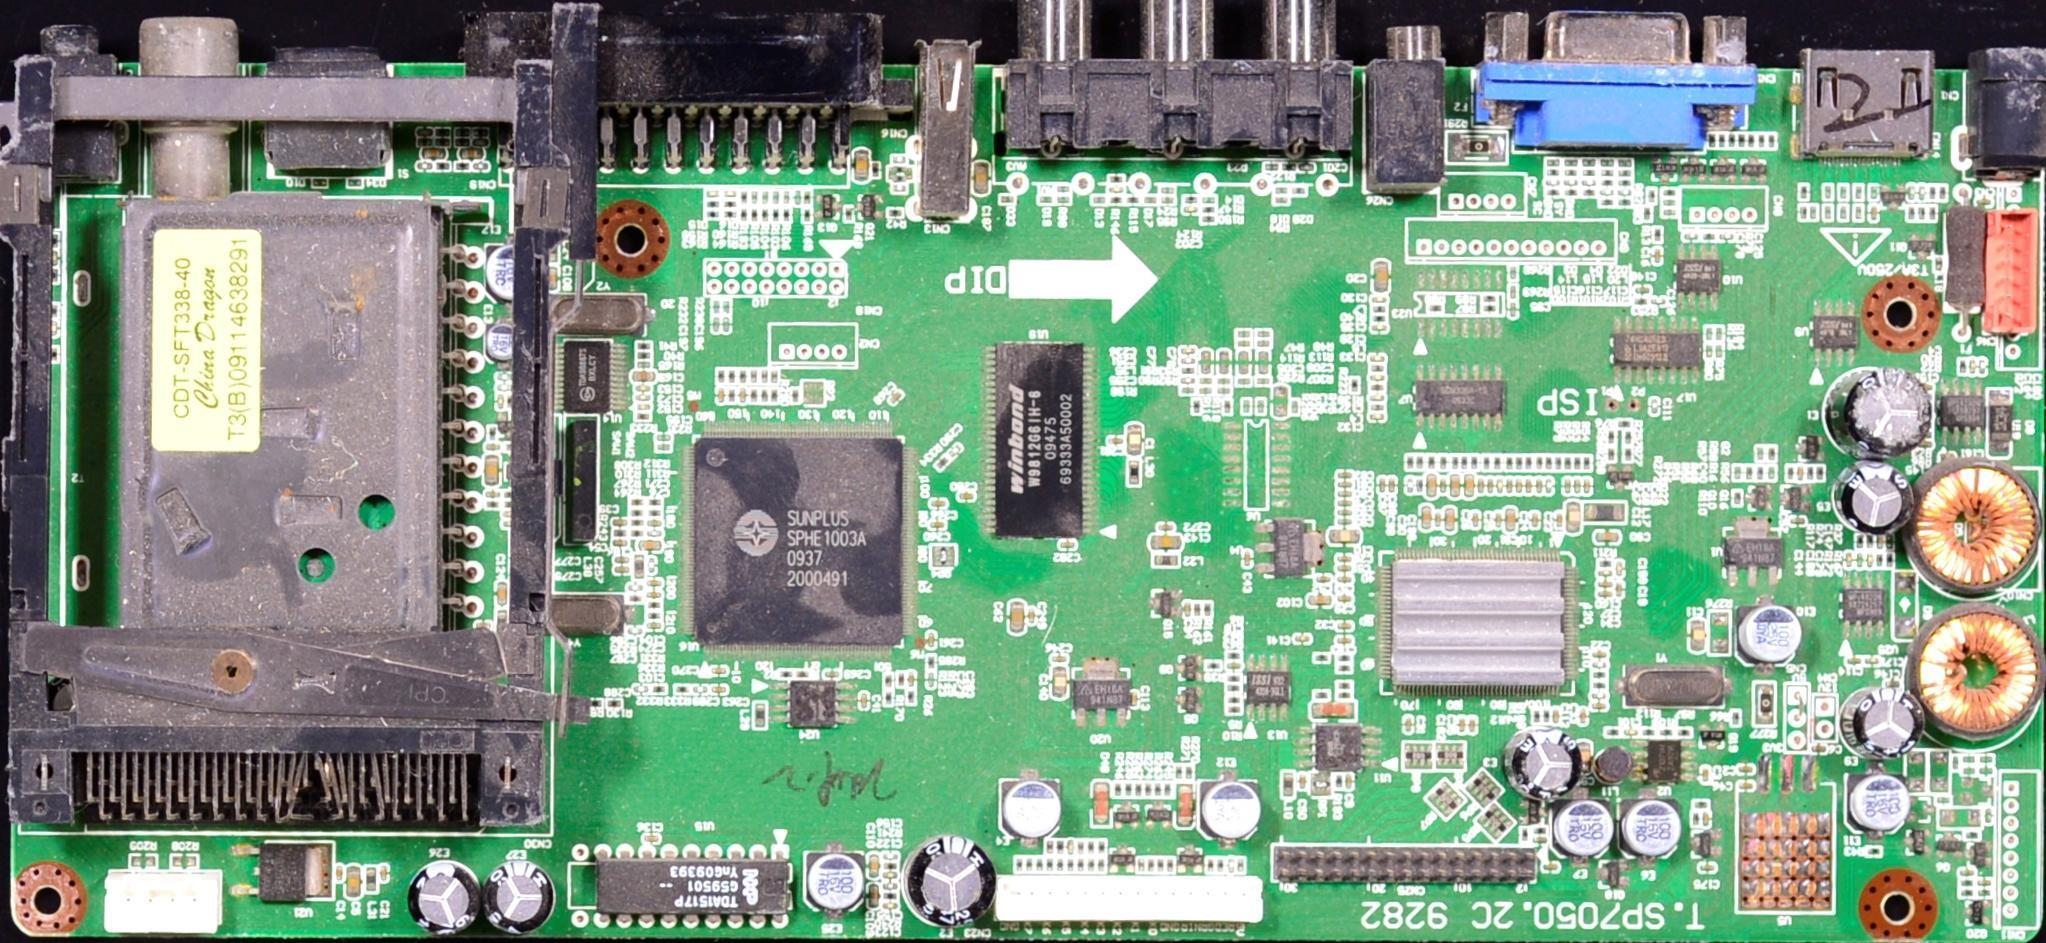Capacitor: (1150, 534, 1184, 552), (1010, 600, 1025, 636), (1371, 262, 1390, 291), (1127, 426, 1144, 456), (973, 163, 989, 194), (483, 455, 499, 487), (1690, 619, 1706, 650), (1053, 665, 1067, 698), (855, 150, 869, 181), (1577, 743, 1591, 776), (1568, 502, 1581, 532), (1330, 529, 1359, 542), (347, 867, 359, 899), (1199, 349, 1212, 374), (1257, 351, 1270, 375), (867, 884, 880, 909), (886, 389, 908, 403), (1219, 350, 1231, 375), (1308, 593, 1333, 605), (1421, 505, 1433, 530), (631, 370, 655, 382), (497, 582, 508, 608), (1506, 510, 1517, 532), (868, 855, 879, 878), (1239, 352, 1250, 375), (1595, 533, 1620, 543), (1464, 474, 1475, 496), (1444, 507, 1455, 530), (1368, 411, 1387, 423), (1590, 700, 1612, 711), (1314, 573, 1333, 583), (1129, 690, 1139, 709), (639, 541, 661, 550), (549, 267, 557, 292), (1809, 744, 1827, 754), (1697, 862, 1716, 873), (1493, 510, 1502, 529), (1335, 637, 1354, 646), (642, 834, 661, 843), (1683, 231, 1700, 241), (957, 490, 974, 501), (1060, 539, 1076, 549), (1242, 550, 1253, 568), (907, 671, 917, 688), (1370, 295, 1388, 304), (1157, 522, 1176, 531), (1293, 634, 1311, 643), (825, 669, 840, 679), (1718, 231, 1735, 240), (1369, 373, 1386, 382), (1106, 436, 1123, 445), (1796, 466, 1805, 482), (1378, 477, 1387, 494), (1337, 507, 1354, 517), (1337, 517, 1354, 525), (645, 622, 661, 631), (1590, 650, 1608, 659), (1051, 654, 1067, 662), (1344, 774, 1353, 790), (1298, 774, 1307, 791), (709, 686, 728, 694), (1027, 609, 1037, 624), (717, 388, 725, 403), (485, 490, 501, 499), (1337, 554, 1353, 563), (1865, 553, 1874, 569), (612, 566, 630, 574), (1615, 582, 1624, 597), (1596, 590, 1612, 599), (711, 667, 727, 675), (1623, 728, 1639, 737), (882, 902, 900, 910), (1372, 323, 1388, 331), (1336, 490, 1353, 498), (1336, 498, 1353, 506), (930, 499, 947, 508), (1556, 511, 1563, 528), (612, 518, 629, 528), (611, 539, 628, 546), (1845, 551, 1853, 568), (1863, 656, 1880, 664), (1847, 657, 1863, 665), (1468, 718, 1476, 734), (883, 852, 900, 860), (1876, 535, 1885, 549), (615, 554, 629, 564), (1616, 562, 1625, 577), (1337, 594, 1352, 603), (693, 685, 707, 694), (1579, 709, 1588, 724), (1458, 717, 1466, 732), (882, 882, 897, 891), (1976, 198, 1991, 206), (635, 385, 651, 393), (739, 387, 746, 403), (1651, 399, 1659, 415), (636, 403, 651, 411), (1388, 477, 1396, 493), (1434, 512, 1442, 528), (1336, 622, 1352, 630), (634, 685, 650, 692), (1404, 717, 1412, 733), (1371, 354, 1384, 362), (1336, 480, 1354, 487), (645, 592, 663, 599), (1552, 709, 1560, 723), (928, 632, 936, 647), (1739, 782, 1754, 790), (1654, 247, 1661, 263), (1634, 287, 1650, 294), (1180, 357, 1196, 364), (636, 394, 652, 400), (1532, 511, 1539, 528), (1472, 511, 1479, 528), (930, 521, 947, 527), (380, 865, 386, 882), (337, 865, 343, 882), (882, 872, 899, 879), (1181, 347, 1194, 355), (647, 519, 660, 527), (1337, 575, 1353, 582), (647, 580, 663, 587), (1184, 601, 1190, 617), (627, 627, 643, 634), (861, 694, 868, 709), (1738, 766, 1754, 772), (1702, 769, 1709, 783), (1337, 565, 1352, 571), (1338, 472, 1354, 478), (1597, 581, 1614, 586), (1184, 206, 1197, 213)
Connector: (1, 0, 581, 839), (599, 0, 911, 170), (1001, 0, 1354, 149), (1485, 12, 1751, 138), (993, 872, 1265, 937), (1793, 54, 1927, 167), (913, 40, 983, 246), (1377, 12, 1445, 180), (1945, 208, 2039, 325), (1975, 48, 2046, 186)
IC: (691, 432, 919, 652), (581, 844, 802, 937), (987, 344, 1092, 538), (233, 840, 334, 907), (1412, 367, 1508, 434), (1612, 319, 1703, 386), (1253, 512, 1323, 577), (1723, 520, 1788, 586), (1072, 664, 1135, 728), (777, 681, 846, 732), (1299, 725, 1377, 768), (1811, 299, 1858, 364), (1937, 383, 1985, 446), (1842, 576, 1890, 641), (1249, 654, 1287, 726), (1630, 744, 1700, 783), (1679, 248, 1720, 314)
Resistor: (130, 855, 157, 868), (172, 855, 197, 867), (884, 689, 895, 707), (897, 671, 907, 689), (794, 668, 810, 679), (606, 698, 622, 708), (1660, 727, 1674, 738), (645, 611, 661, 619), (1678, 727, 1691, 738), (1643, 727, 1657, 737), (884, 891, 898, 901), (705, 202, 720, 211), (1702, 231, 1717, 240), (713, 300, 721, 315), (637, 341, 653, 350), (646, 601, 662, 610), (1204, 603, 1213, 618), (907, 689, 916, 704), (1605, 728, 1620, 737), (1334, 774, 1343, 789), (1206, 662, 1222, 671), (928, 672, 936, 689), (882, 862, 899, 870), (1642, 206, 1651, 221), (1482, 294, 1497, 303), (926, 656, 936, 670), (1532, 708, 1541, 723), (1255, 341, 1271, 348), (636, 351, 651, 359), (1192, 399, 1200, 415), (1608, 430, 1616, 446), (1193, 603, 1201, 618), (1226, 685, 1242, 692), (1542, 708, 1550, 724), (1732, 711, 1739, 726), (803, 209, 812, 222), (1617, 419, 1630, 428), (631, 498, 644, 507), (885, 674, 894, 687), (590, 698, 603, 707), (1154, 783, 1162, 796), (761, 208, 768, 222), (783, 207, 791, 222), (773, 208, 780, 222), (1654, 228, 1662, 242), (1224, 399, 1232, 414), (1607, 448, 1615, 462), (648, 498, 663, 506), (613, 530, 627, 537), (779, 670, 793, 678), (1144, 782, 1152, 797), (1134, 783, 1142, 797), (1164, 782, 1172, 797), (714, 316, 720, 332), (1648, 188, 1656, 201), (707, 210, 720, 218), (723, 317, 730, 333), (1236, 340, 1251, 347), (631, 530, 645, 537), (653, 685, 665, 693), (676, 685, 689, 693), (1125, 783, 1133, 796), (741, 208, 748, 222), (723, 301, 730, 315), (1625, 431, 1631, 445), (630, 510, 644, 516), (1175, 765, 1182, 778), (1483, 305, 1497, 312), (1237, 331, 1250, 338), (1257, 331, 1270, 338), (1624, 447, 1631, 461), (648, 510, 661, 517), (1227, 674, 1240, 681), (1186, 766, 1193, 779), (1115, 783, 1122, 796), (637, 361, 652, 367), (1227, 697, 1242, 702), (1229, 707, 1241, 713), (751, 209, 757, 222), (631, 520, 644, 526), (1227, 653, 1240, 659)
Transistor: (1907, 238, 1936, 252), (1146, 808, 1170, 823), (1740, 163, 1768, 176), (1604, 470, 1633, 482), (1158, 591, 1172, 617), (1183, 687, 1198, 713), (1912, 828, 1926, 854), (1608, 861, 1621, 888), (1112, 853, 1136, 867), (1651, 162, 1677, 175), (1112, 811, 1138, 824), (1974, 841, 1987, 868), (1182, 656, 1197, 680), (1699, 833, 1713, 857), (1177, 853, 1202, 866), (1879, 192, 1906, 203), (862, 195, 876, 219), (1756, 484, 1768, 510), (1936, 839, 1963, 851), (822, 195, 834, 220), (1806, 435, 1818, 460), (1789, 488, 1801, 512), (1700, 730, 1725, 742), (1711, 164, 1736, 175), (1682, 164, 1706, 175), (1973, 900, 1983, 924)
